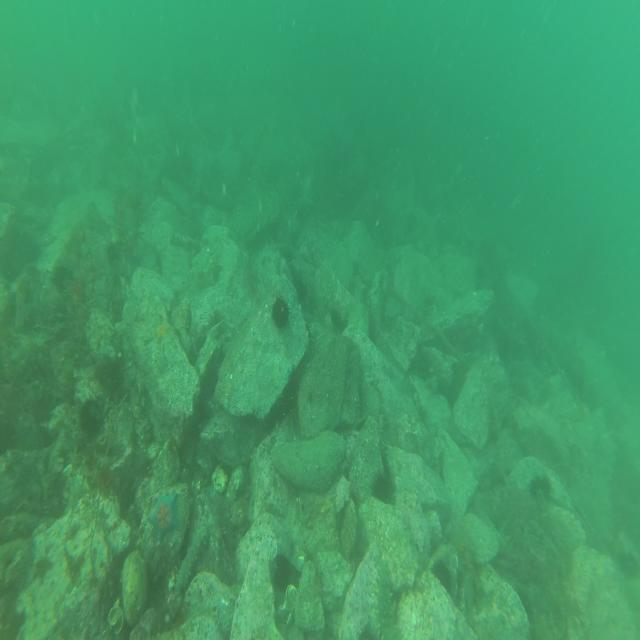echinus: (75, 398, 106, 438), (370, 471, 398, 508), (270, 298, 294, 334), (529, 472, 553, 504)
starfish: (147, 487, 183, 541)
